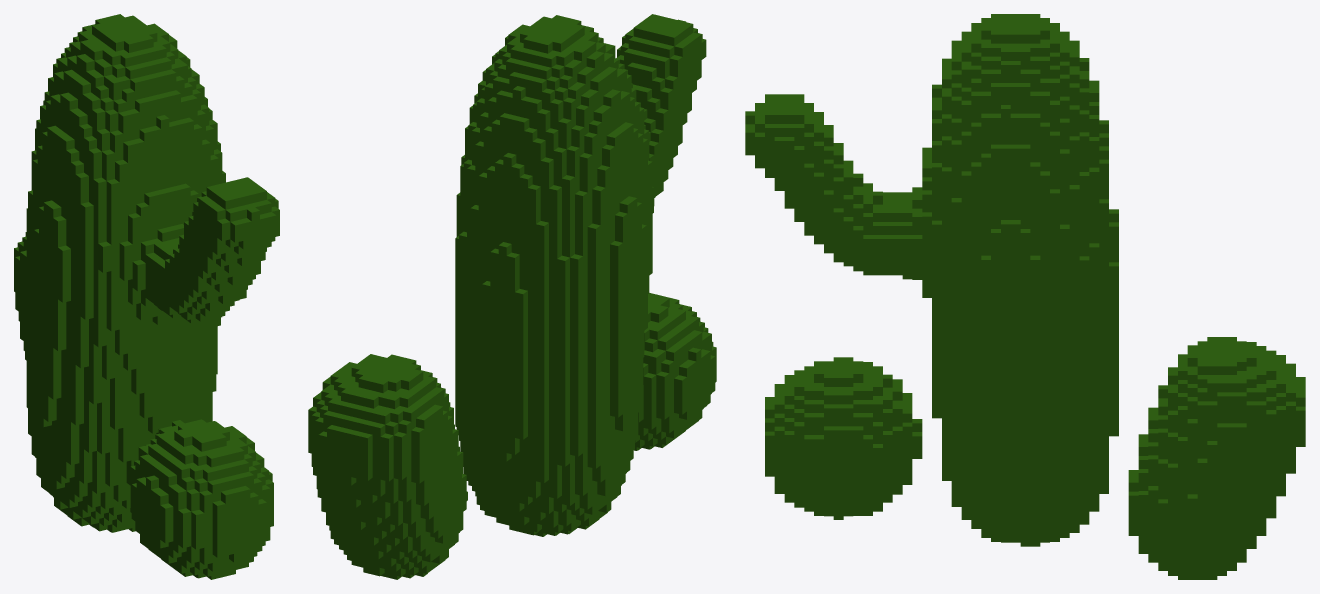
Rendered from Cato.fbx.
The picture shows the model from 3 angles, left to right: view 1: azimuth 30°, elevation 25°; view 2: azimuth 150°, elevation 25°; view 3: azimuth 270°, elevation 25°; orthographic projection. The views are drawn at different scales.
Parts seen in each view (by area): view 1: Cato; view 2: Cato; view 3: Cato.
Boxes of the visible parts, x1,y1,x2,y2 form: Cato: (14,14,279,579); Cato: (308,14,716,579); Cato: (745,14,1305,579).
Bounding box in the file's own units: 71.05 × 162 × 162.
